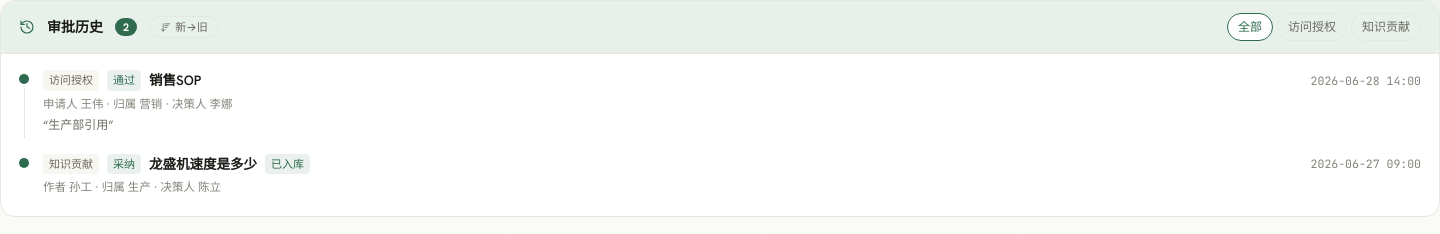
it: ApprovalHistory › 类型 chip 本地过滤（点「知识贡献」→ 只剩贡献行）
The image size is (1440, 234).
Click the tab "知识贡献".
click(1386, 27)  # box x1=1351 y1=13 x2=1421 y2=41
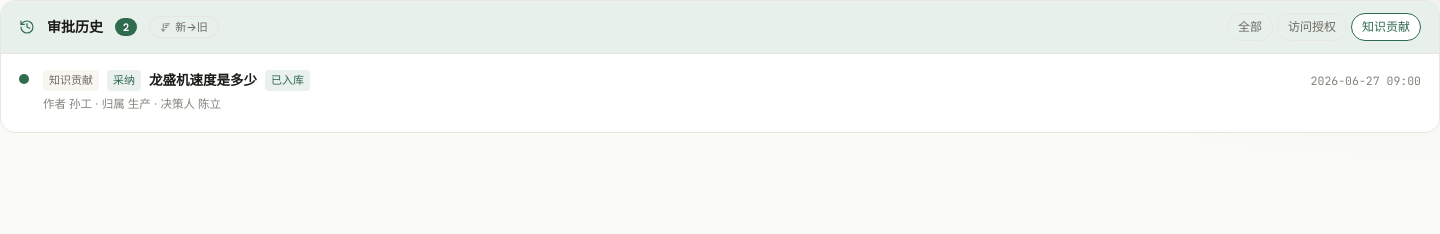
Check: the text "龙盛机速度是多少" is shown, box x1=149 y1=70 x2=257 y2=90
Check: the text "销售SOP" is gone
